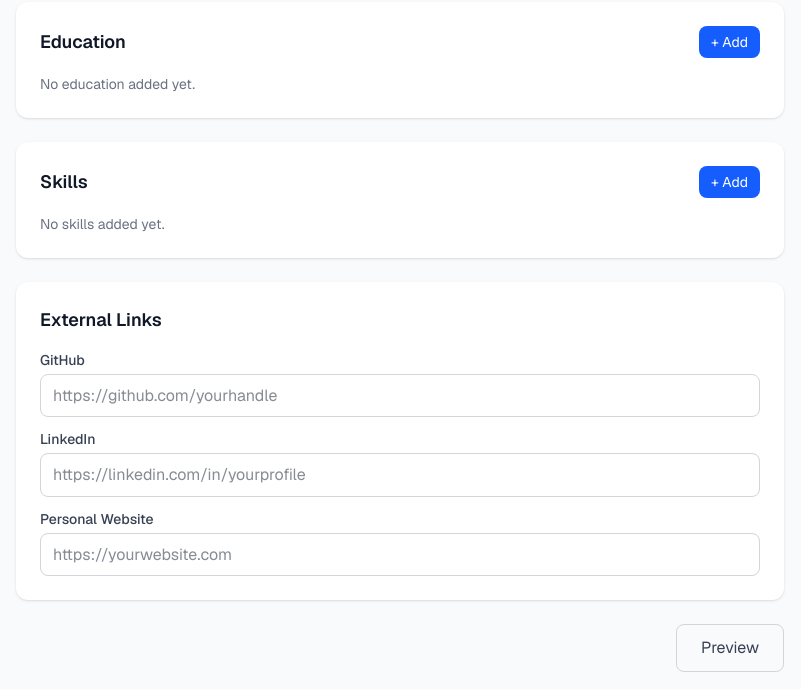
Test: ProfileBuilderPage › switches to preview mode
(page scrolled)
Click the button "Preview". click: (730, 648)
box: [676, 624, 784, 672]
(page scrolled)
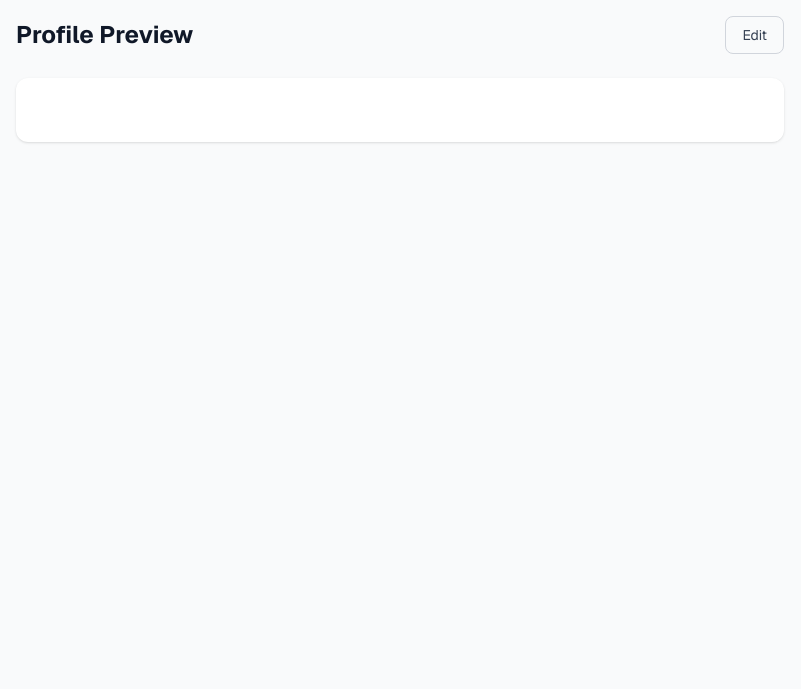
Now the heading "Profile Preview" is shown, box [16, 19, 194, 51]
Now the button "Edit" is shown, box [725, 16, 784, 54]
